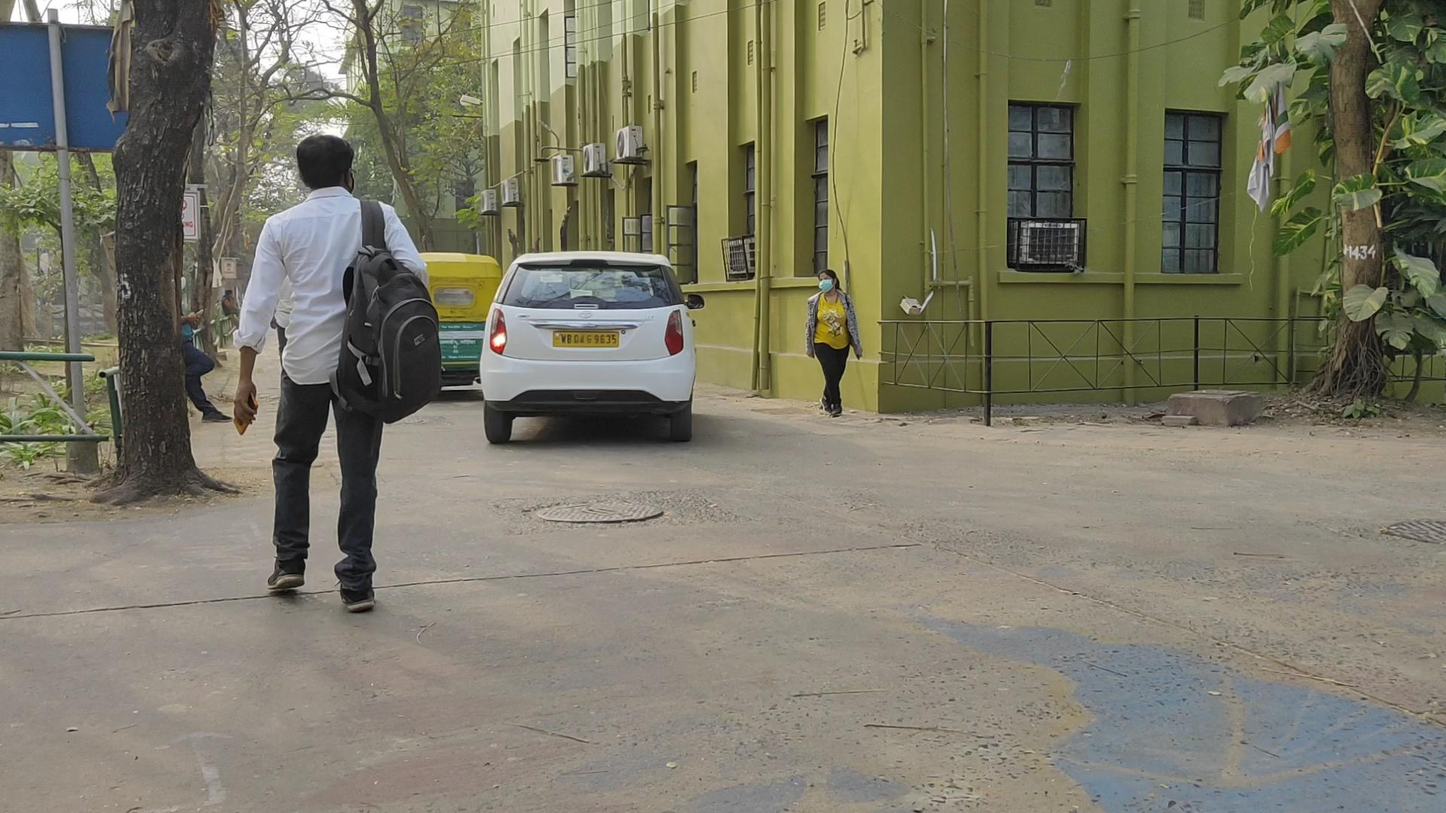Auto: (410, 247, 508, 397)
car: (479, 252, 703, 443)
